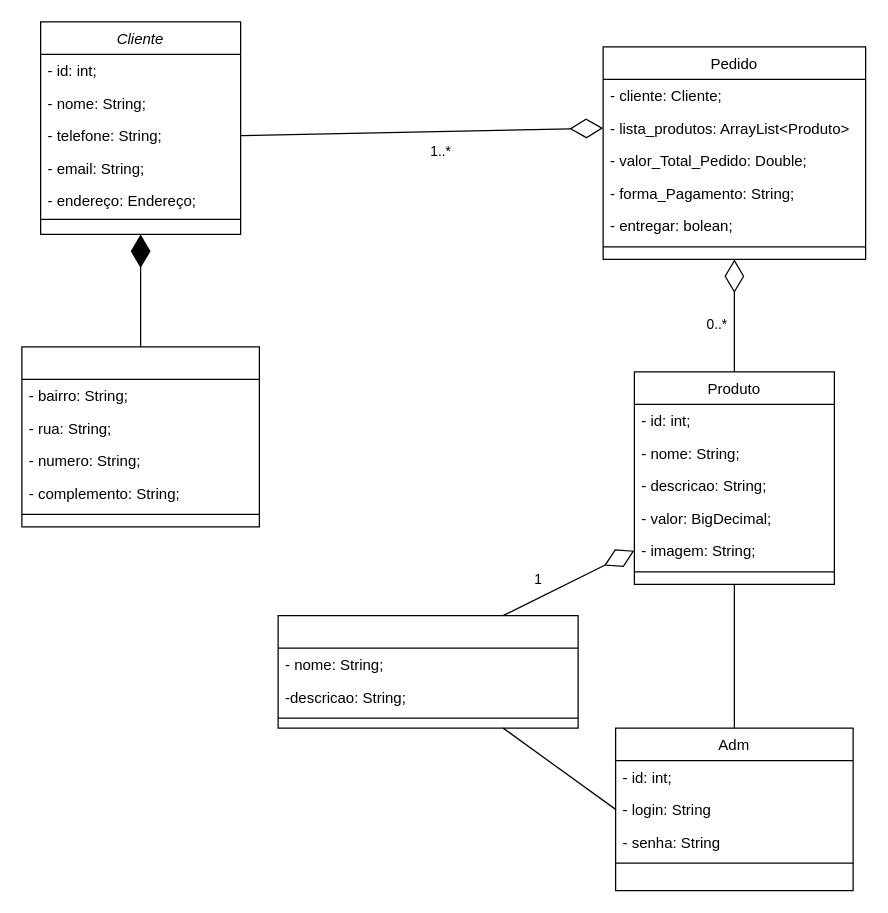
Some shapes in this 888 by 913 pixel diagram are drawn without their labels. The box of each missing label's shape, as (x1, y1, x2, y2) in pixels:
Categoria: (277, 614, 578, 728)
Endereço: (21, 346, 259, 527)
